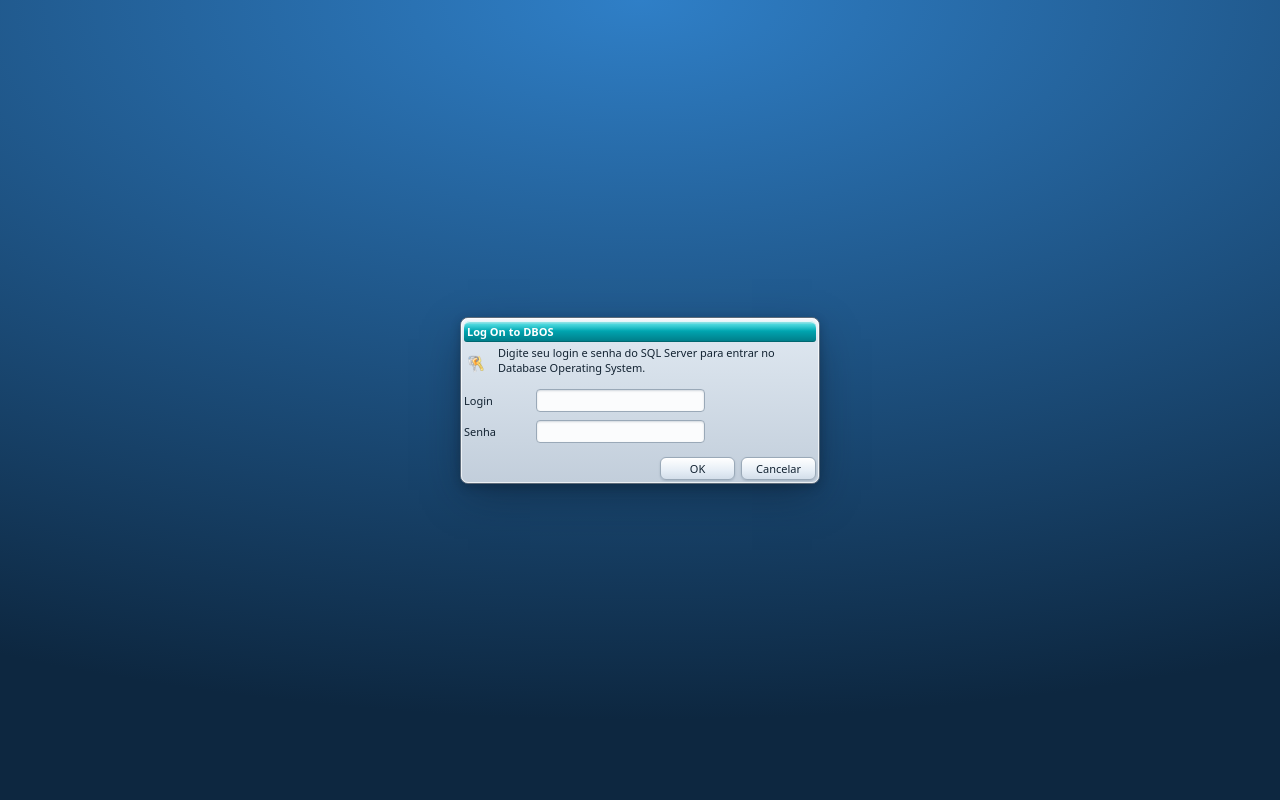
Cancelar limpa os campos
Type "sa" into the field labelled "Login".
click(620, 400); type("sa")  # box [536, 388, 705, 412]
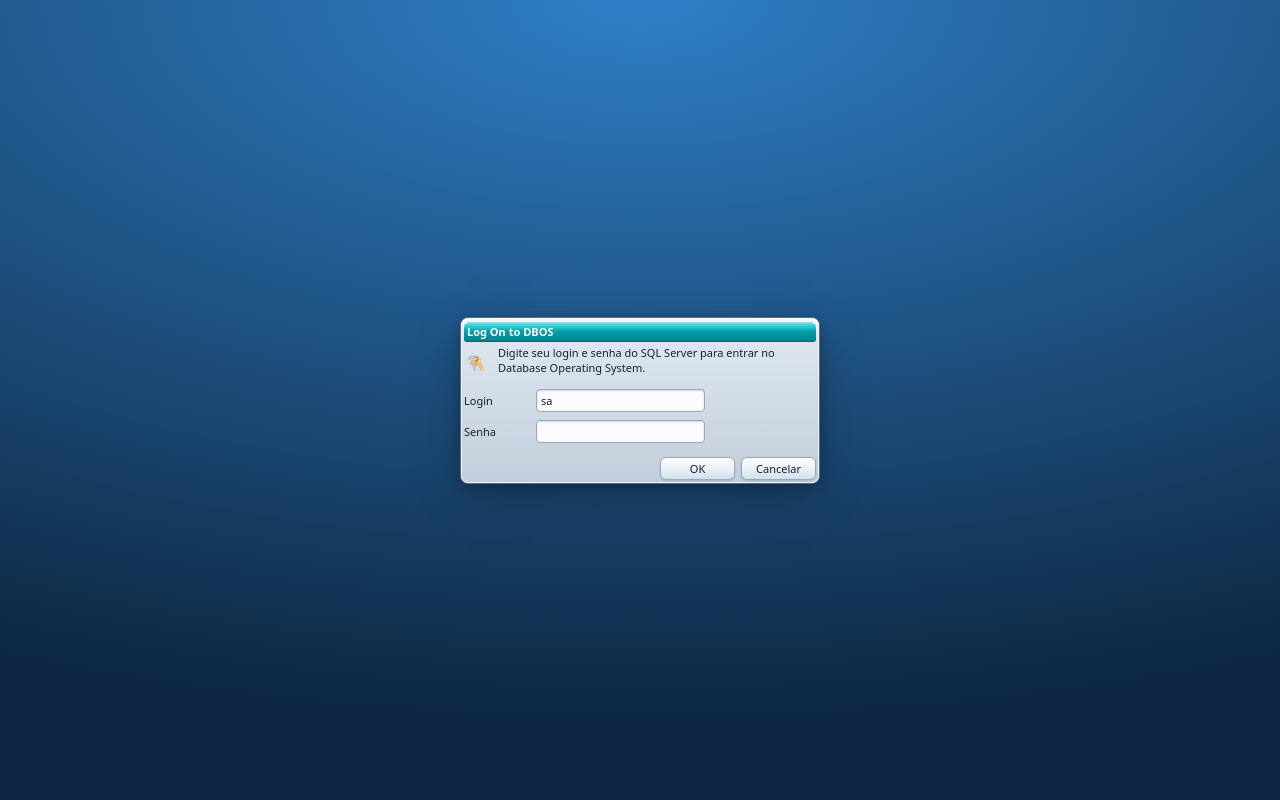
Click the button "Cancelar".
click(778, 468)  # box [741, 456, 816, 480]
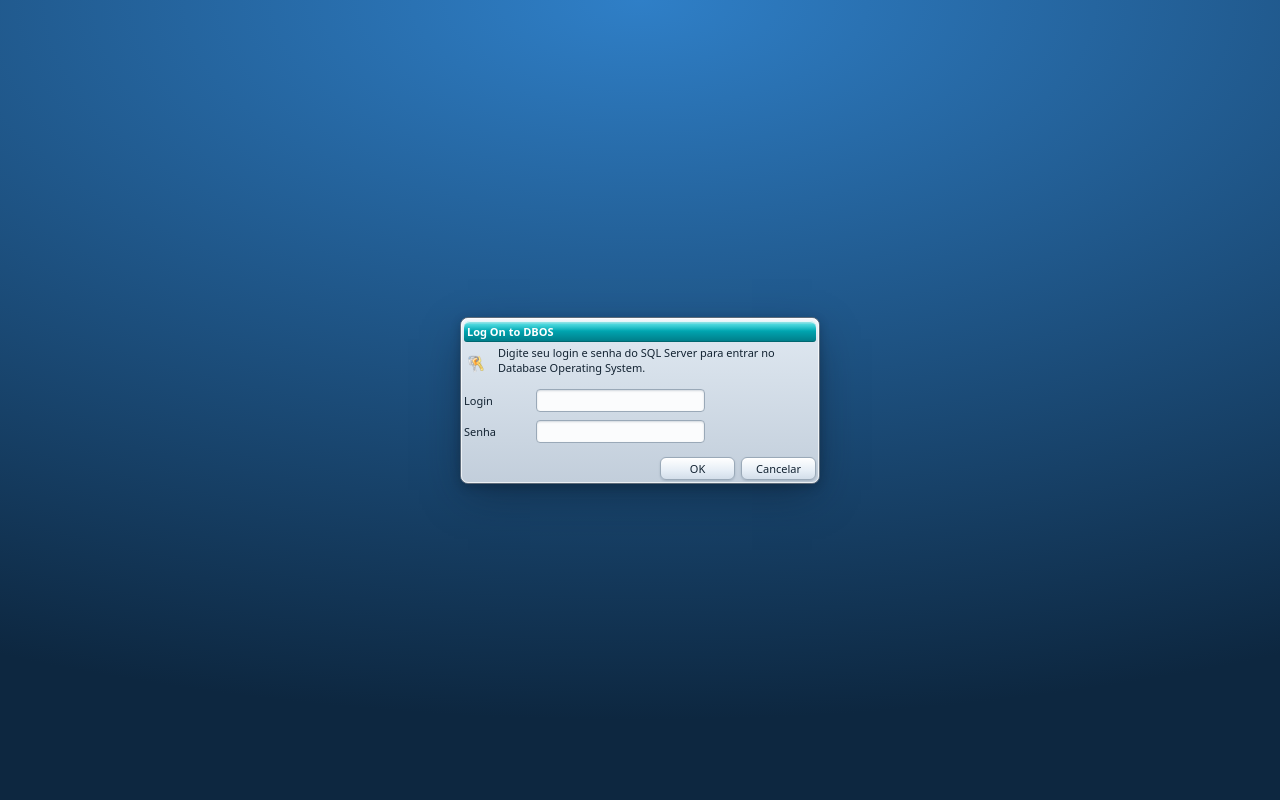
Check: the field labelled "Login" is empty, box [536, 388, 705, 412]
